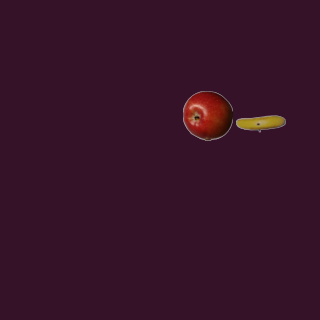Apple Braeburn: (182, 90, 232, 140)
Banana: (235, 98, 285, 148)
